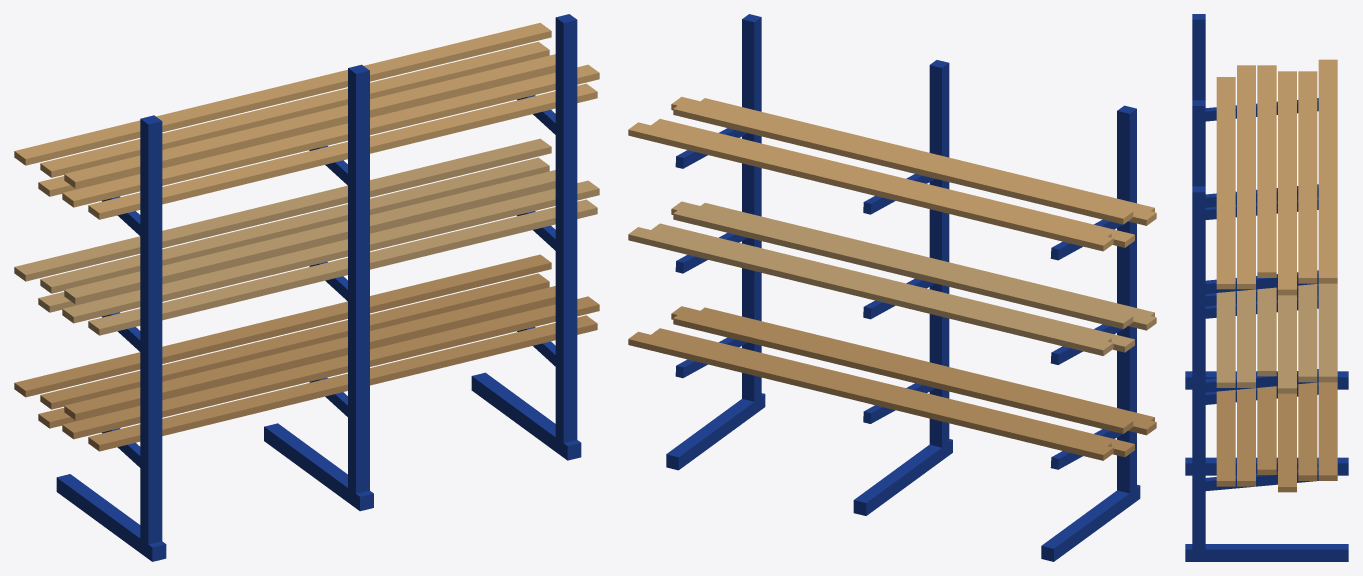
The model's file is retail.store.timber_rack.glb.
The picture shows the model from 3 angles, left to right: view 1: azimuth 30°, elevation 25°; view 2: azimuth 150°, elevation 25°; view 3: azimuth 270°, elevation 25°; orthographic projection. The views are drawn at different scales.
Parts seen in each view (by area): view 1: stock__glulam, stock__softwood, stock__plywood, frame__plastic_blue; view 2: frame__plastic_blue, stock__plywood, stock__softwood, stock__glulam; view 3: stock__glulam, frame__plastic_blue, stock__plywood, stock__softwood.
Part boxes in pixels (<box>): stock__glulam: <box>14,22,599,219</box>; stock__softwood: <box>14,254,599,451</box>; stock__plywood: <box>14,138,599,335</box>; frame__plastic_blue: <box>56,14,581,561</box>; frame__plastic_blue: <box>666,14,1140,561</box>; stock__plywood: <box>628,201,1156,355</box>; stock__softwood: <box>628,306,1156,460</box>; stock__glulam: <box>628,96,1156,251</box>; stock__glulam: <box>1216,59,1337,295</box>; frame__plastic_blue: <box>1185,14,1348,561</box>; stock__plywood: <box>1216,283,1337,393</box>; stock__softwood: <box>1216,382,1337,492</box>.
Bounding box in the file's own units: 3.8 × 3 × 1.2.
